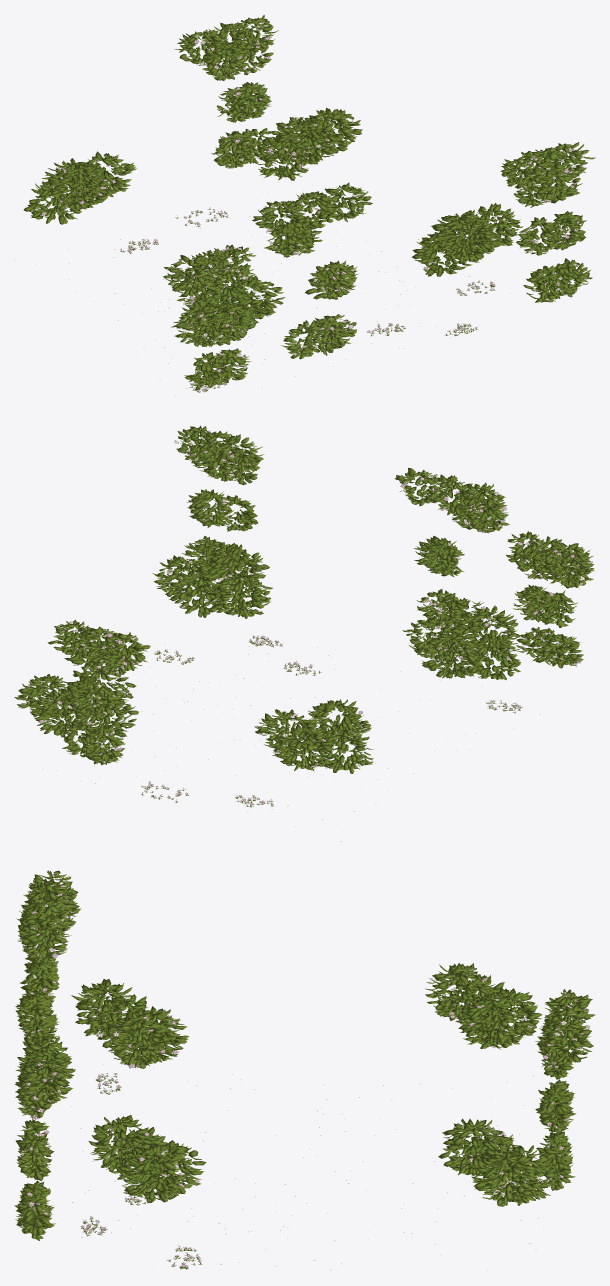
File: R2_LayeredVegetation.fbx
The picture shows the model from 3 angles, top to bottom: view 1: azimuth 30°, elevation 25°; view 2: azimuth 150°, elevation 25°; view 3: azimuth 270°, elevation 25°; orthographic projection. The views are drawn at different scales.
Visible parts, largest first — view 1: R2_LayeredVegetation; view 2: R2_LayeredVegetation; view 3: R2_LayeredVegetation.
Boxes of the visible parts, bbox=[...] form: R2_LayeredVegetation: bbox=[14, 15, 595, 396]; R2_LayeredVegetation: bbox=[14, 425, 594, 841]; R2_LayeredVegetation: bbox=[14, 870, 595, 1271].
Size of the model in its own units: 37.99 by 16.52 by 37.98.
